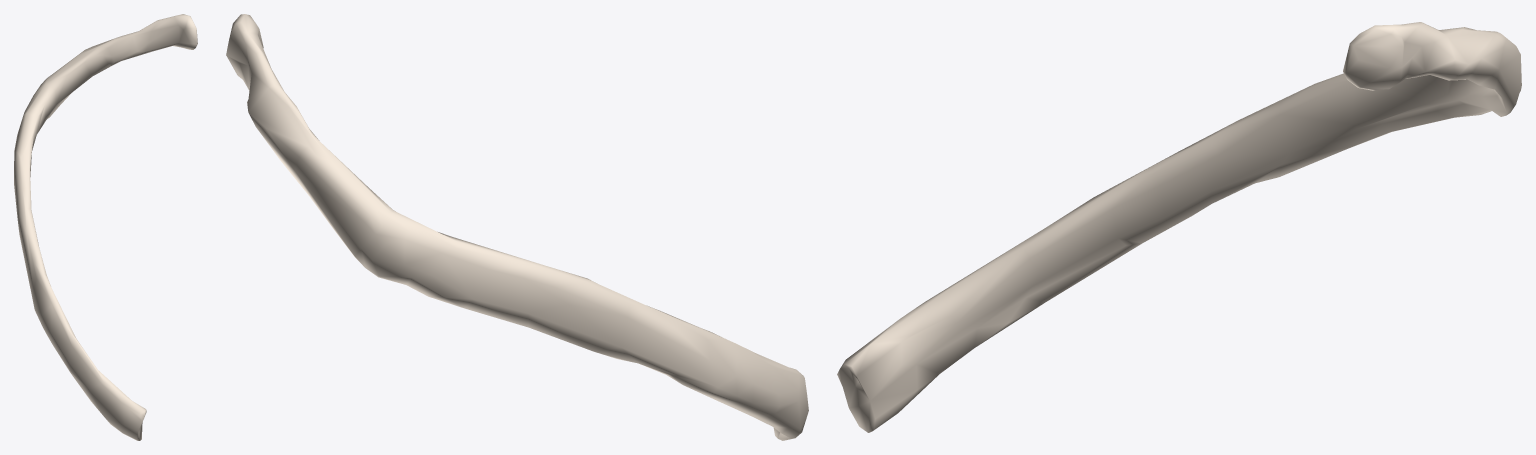
File: right_rib_8.glb
The picture shows the model from 3 angles, left to right: view 1: azimuth 30°, elevation 25°; view 2: azimuth 150°, elevation 25°; view 3: azimuth 270°, elevation 25°; orthographic projection. The views are drawn at different scales.
Parts seen in each view (by area): view 1: Rib (8th).r; view 2: Rib (8th).r; view 3: Rib (8th).r.
Boxes of the visible parts, x1,y1,x2,y2 form: Rib (8th).r: (14, 14, 197, 440); Rib (8th).r: (226, 14, 808, 440); Rib (8th).r: (837, 22, 1521, 432).
Size of the model in its own units: 0.119 by 0.1516 by 0.1631.
